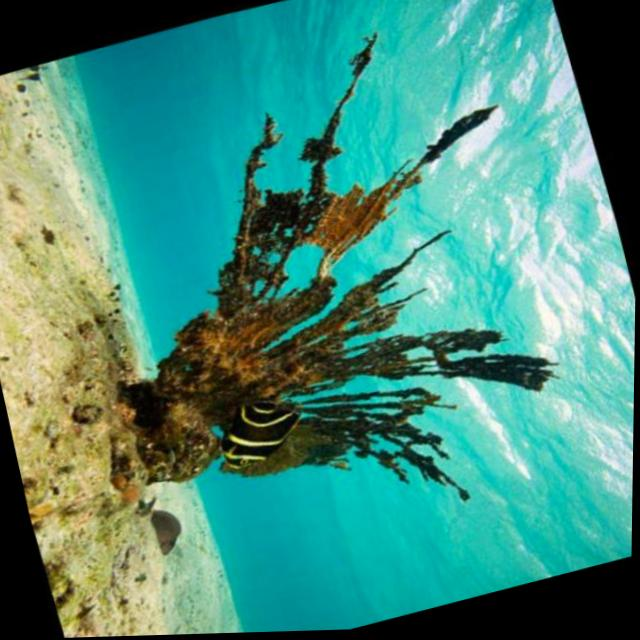Dead Coral: (26, 0, 619, 607)
